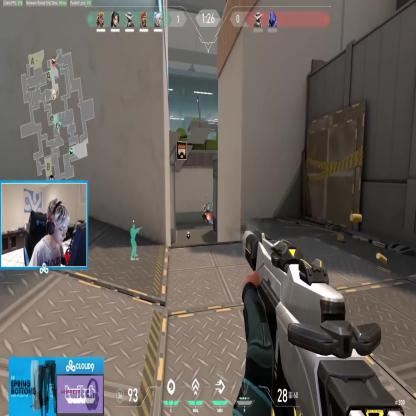enemy: (202, 204, 208, 223)
enemy_head: (204, 205, 205, 208)
